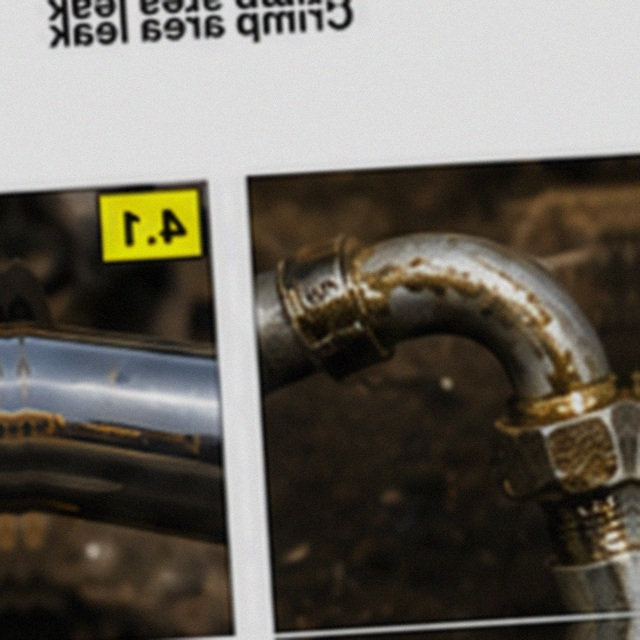hydraulic_oil_leak: (215, 244, 459, 462)
